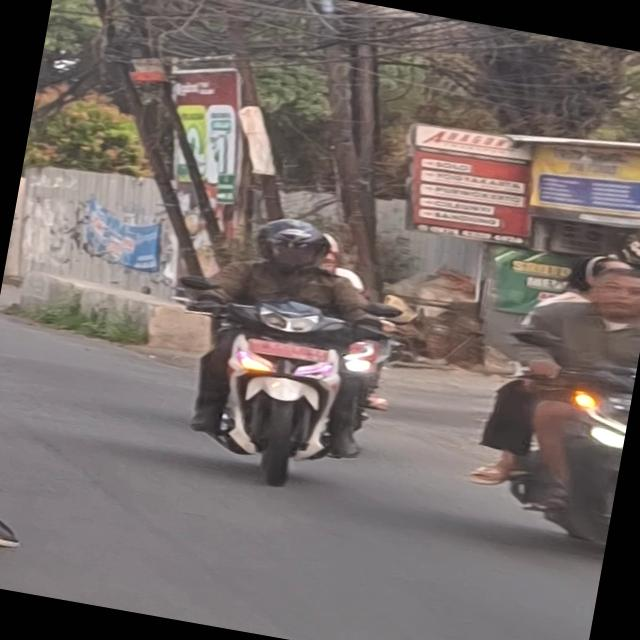WithHelmet: (161, 203, 404, 465)
WithoutHelmet: (458, 238, 640, 554)
